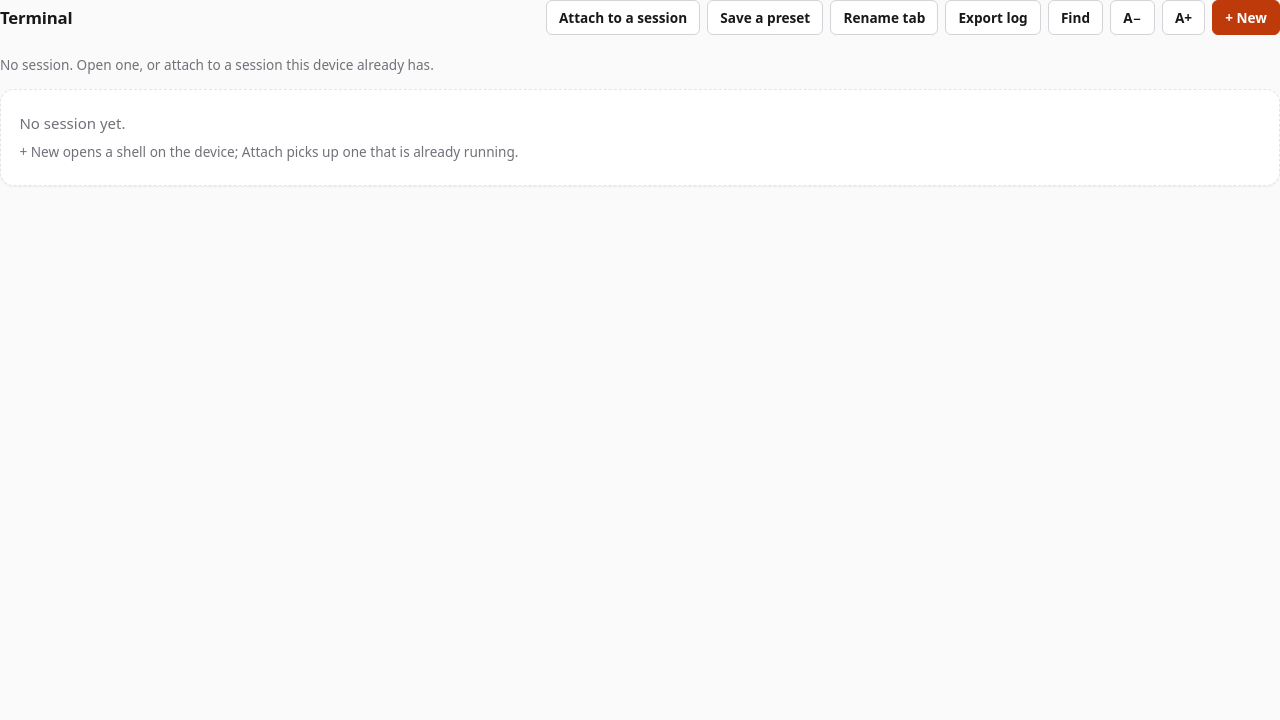
TerminalWorkspace tab names › opens a pty session as a tab named pty 1
Click the button "+ New" at [1246, 18], box [1212,0,1279,35]
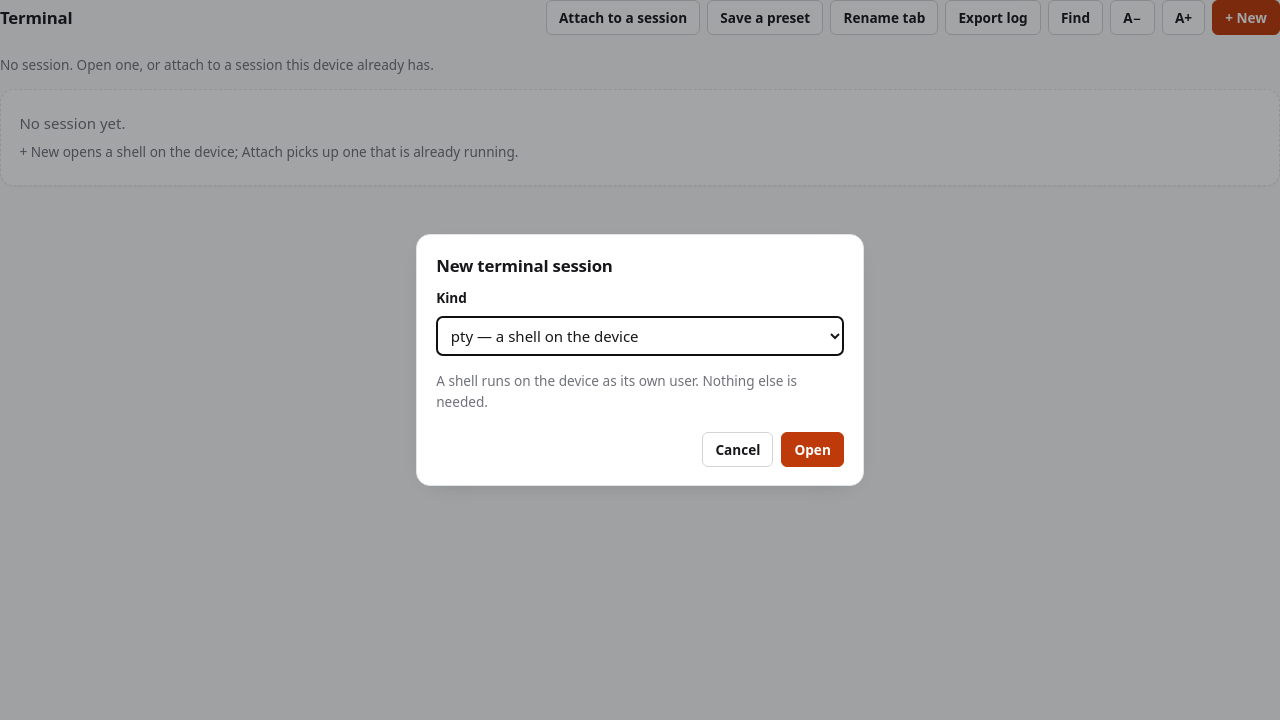
Click the button "Open" at [813, 449], box [781,432,844,467]
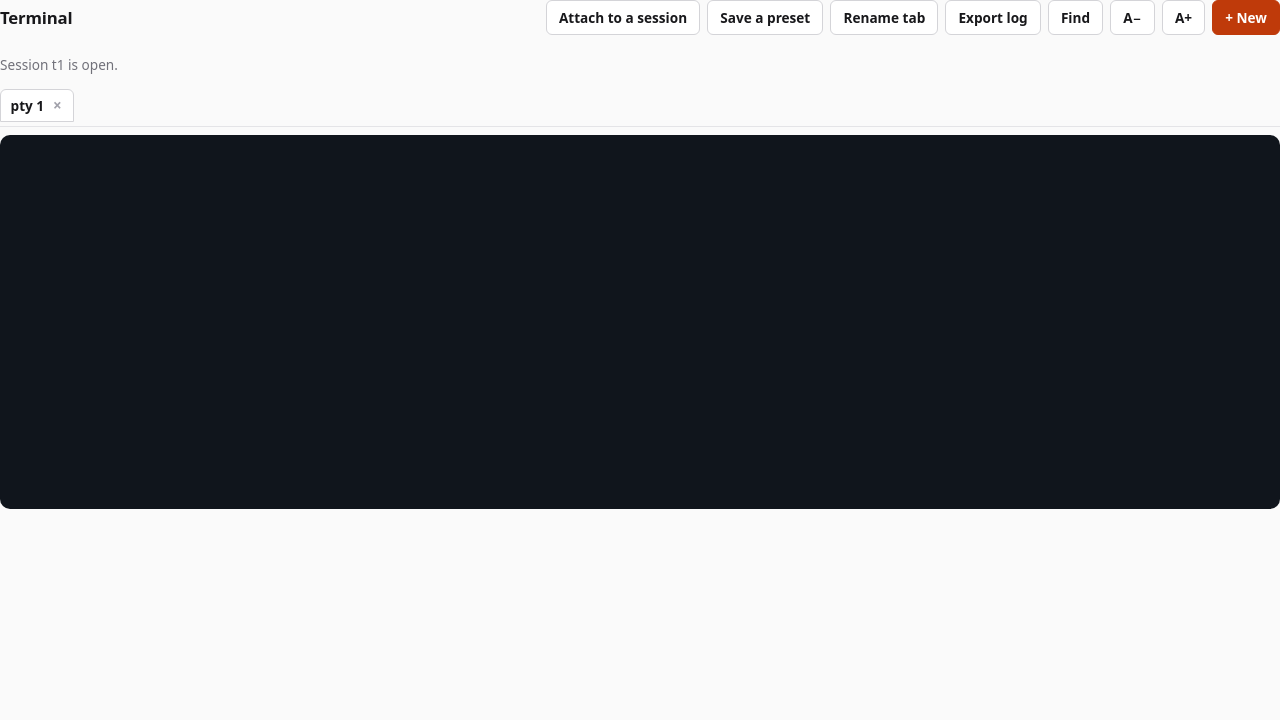
Expected: the heading "New terminal session" is gone
Expected: the tab "pty 1" is shown, [0,89,74,122]
